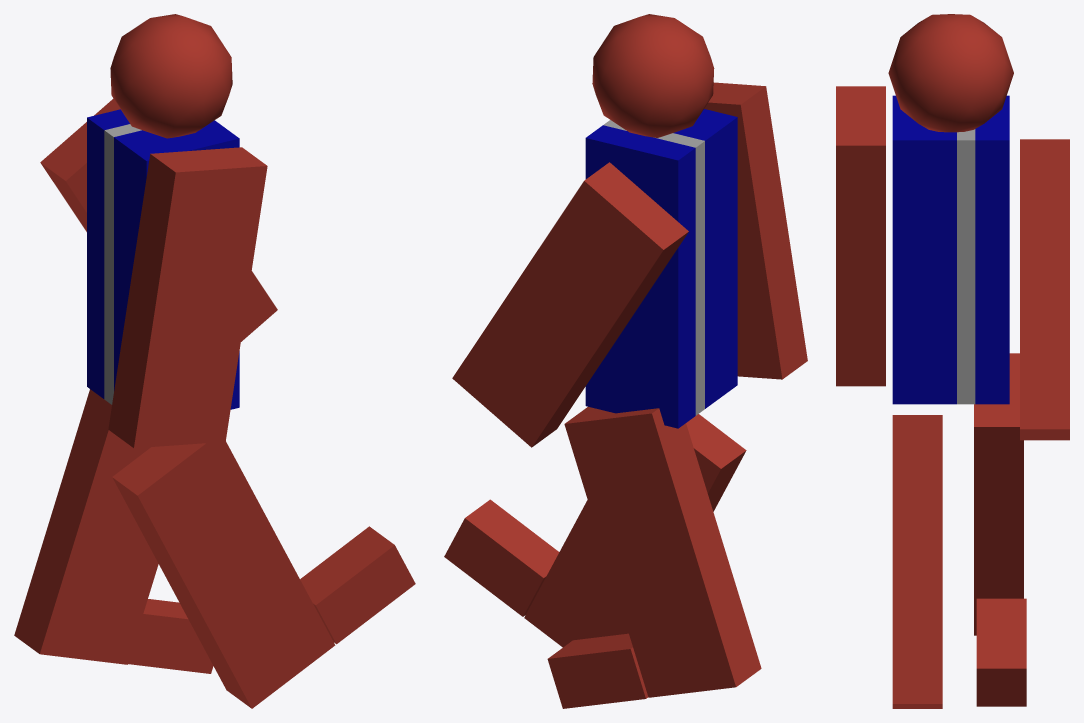
The model's file is player_000031.obj.
The picture shows the model from 3 angles, left to right: view 1: azimuth 30°, elevation 25°; view 2: azimuth 150°, elevation 25°; view 3: azimuth 270°, elevation 25°; orthographic projection.
Parts seen in each view (by area): view 1: Cube.005, Cube.001, Cube.002, Cube, Icosphere, Cube.003, Cube.004, Cube.006; view 2: Cube.002, Cube, Cube.006, Cube.005, Icosphere, Cube.001, Cube.003, Cube.004; view 3: Cube, Cube.006, Cube.005, Cube.001, Icosphere, Cube.002, Cube.004, Cube.003.
Part boxes in pixels (left/top/right/bottom): Cube.005: left=108, top=147, right=267, bottom=448; Cube.001: left=112, top=441, right=335, bottom=708; Cube.002: left=14, top=389, right=158, bottom=664; Cube: left=87, top=109, right=239, bottom=409; Icosphere: left=110, top=14, right=232, bottom=138; Cube.003: left=300, top=526, right=415, bottom=644; Cube.004: left=128, top=599, right=213, bottom=673; Cube.006: left=40, top=98, right=277, bottom=341; Cube.002: left=564, top=406, right=761, bottom=697; Cube: left=585, top=109, right=737, bottom=428; Cube.006: left=452, top=162, right=688, bottom=447; Cube.005: left=704, top=82, right=807, bottom=379; Icosphere: left=592, top=14, right=714, bottom=137; Cube.001: left=524, top=414, right=746, bottom=647; Cube.003: left=444, top=499, right=559, bottom=616; Cube.004: left=547, top=633, right=648, bottom=708; Cube: left=892, top=95, right=1009, bottom=404; Cube.006: left=1020, top=139, right=1069, bottom=440; Cube.005: left=836, top=86, right=885, bottom=386; Cube.001: left=892, top=415, right=942, bottom=708; Icosphere: left=888, top=14, right=1013, bottom=132; Cube.002: left=974, top=353, right=1023, bottom=635; Cube.004: left=976, top=598, right=1026, bottom=706; Cube.003: left=892, top=650, right=942, bottom=706.
Bounding box in the file's own units: 1.48 × 2.87 × 0.9137.
